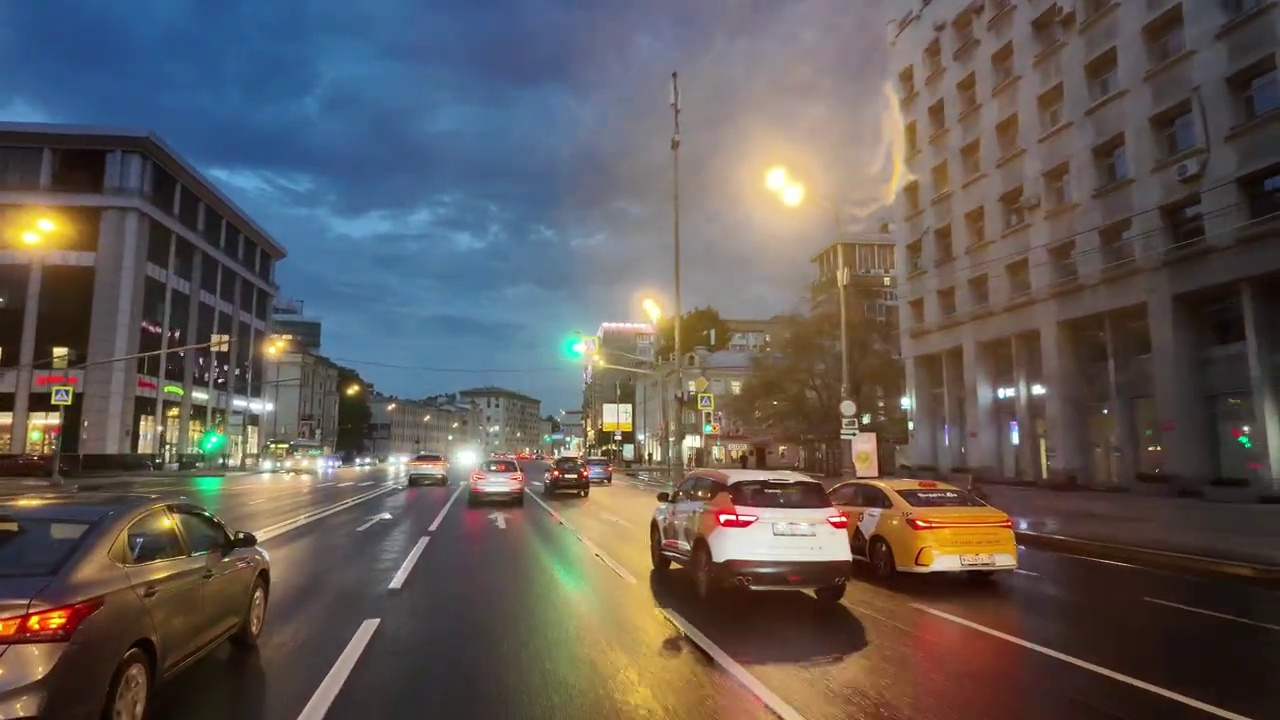acesa: (754, 159, 812, 215), (13, 212, 68, 250), (636, 292, 671, 327), (260, 335, 291, 362)
